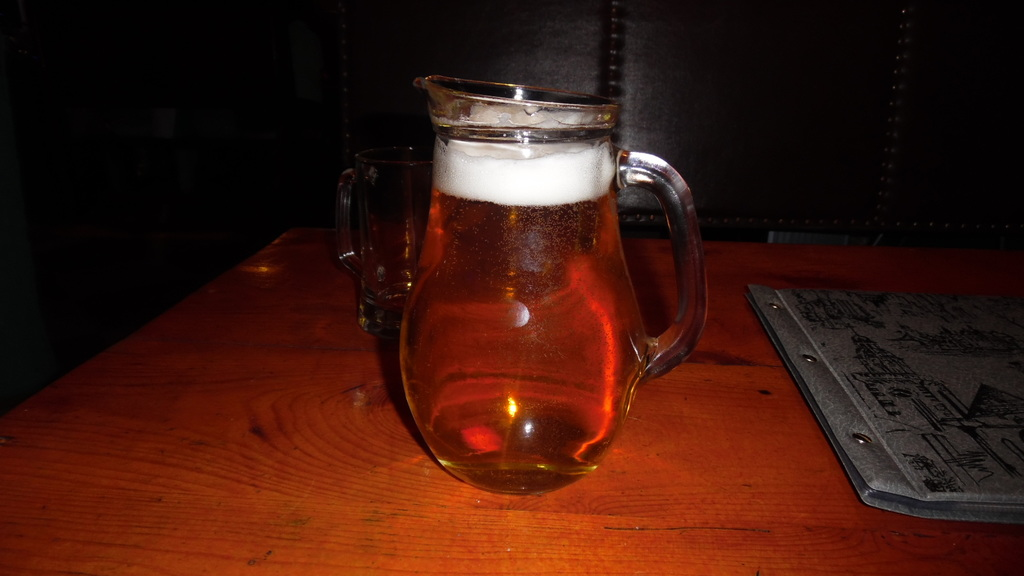Beer: (391, 71, 714, 495)
